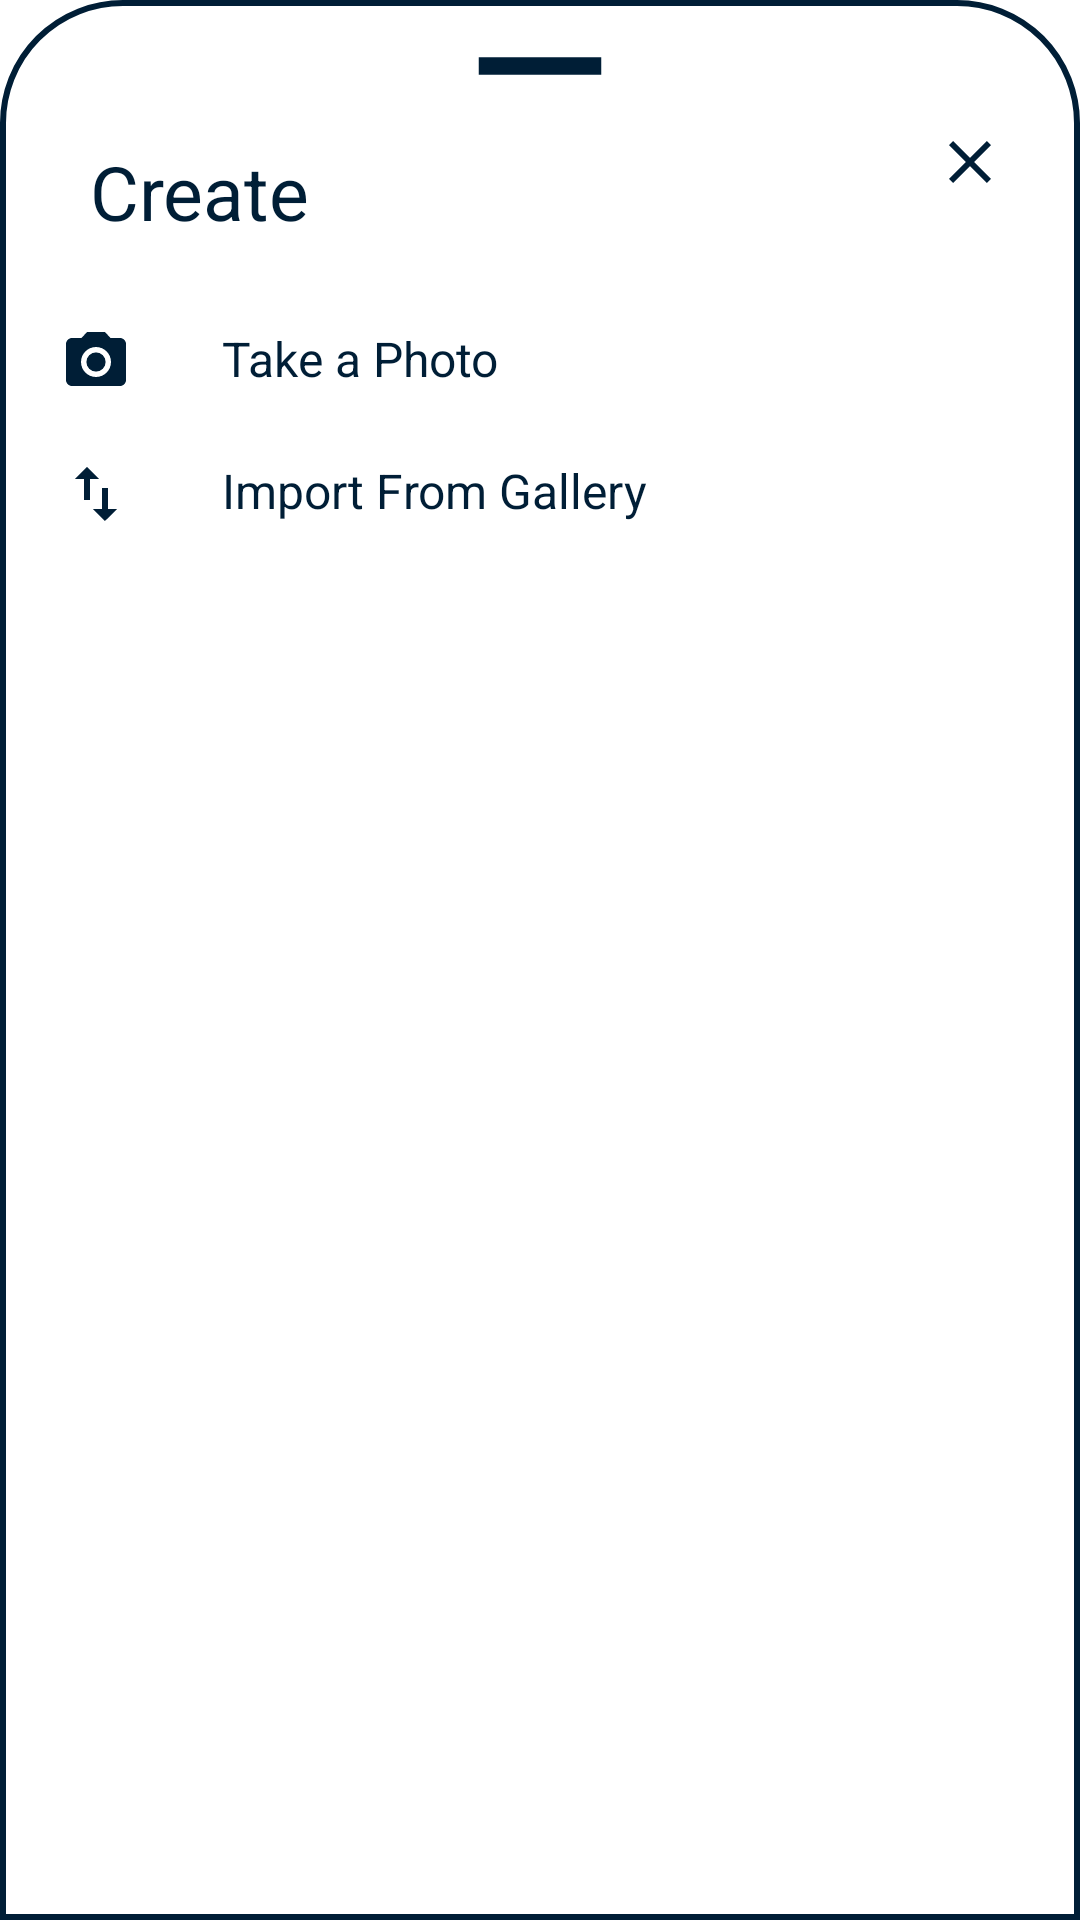

Icons on this 1080 × 1920 Android screen, each with its box as [x1,y1,x2,y2]:
camera: [66,332,126,386]
close: [949,141,991,183]
import export: [75,467,117,521]
